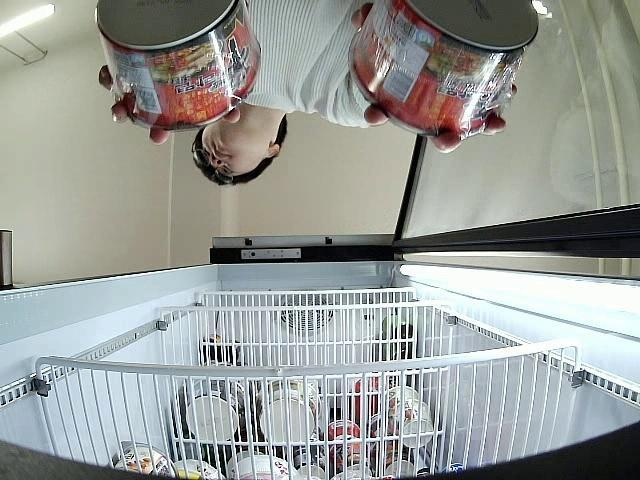01_ShinRamen_L: (354, 0, 536, 124), (96, 1, 260, 113)
